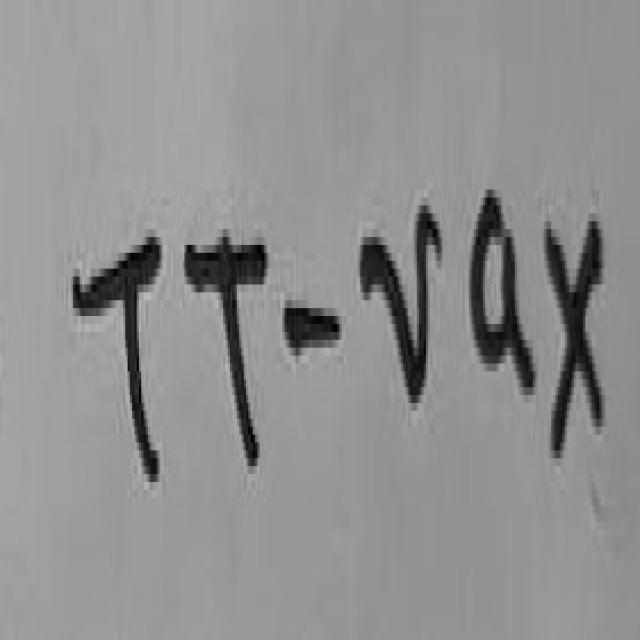T: (73, 245, 161, 478), (184, 245, 263, 462)
a: (471, 190, 535, 383)
v: (362, 205, 442, 399)
x: (547, 221, 604, 454)
